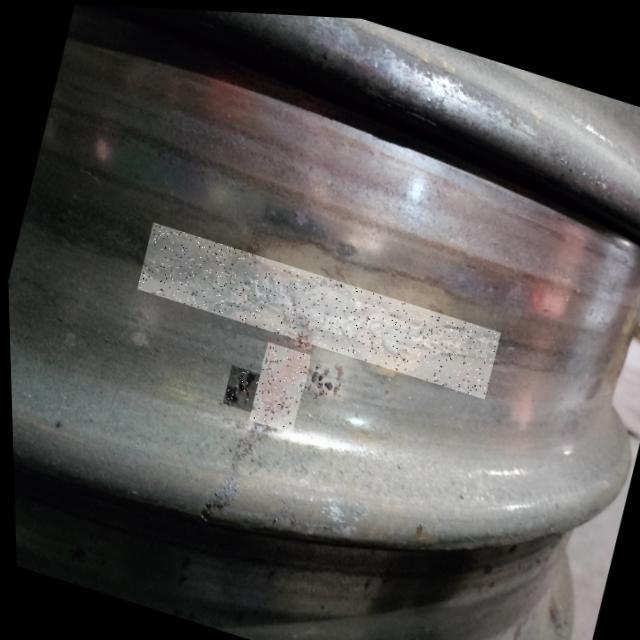Blue hole: (220, 364, 262, 413)
